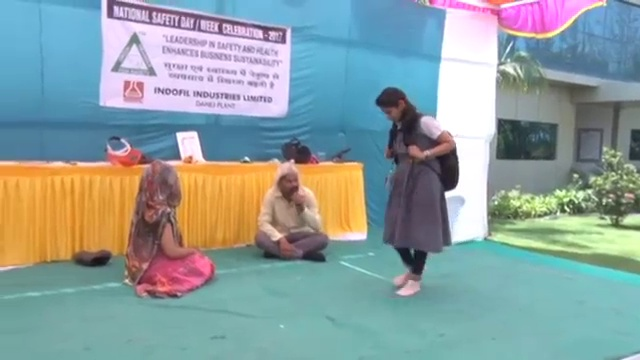helmet_off: (138, 164, 182, 207), (377, 86, 410, 126), (277, 163, 300, 198)
person: (375, 85, 460, 300), (124, 158, 216, 299), (252, 164, 329, 263)
